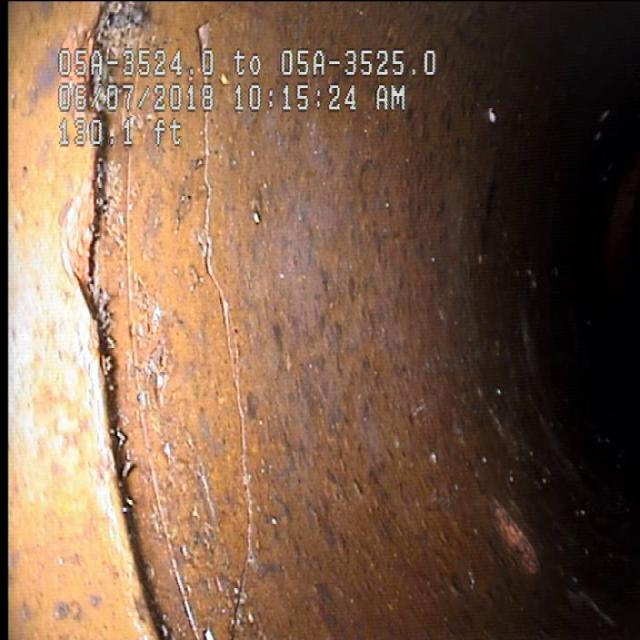Crack: (176, 175, 291, 600)
